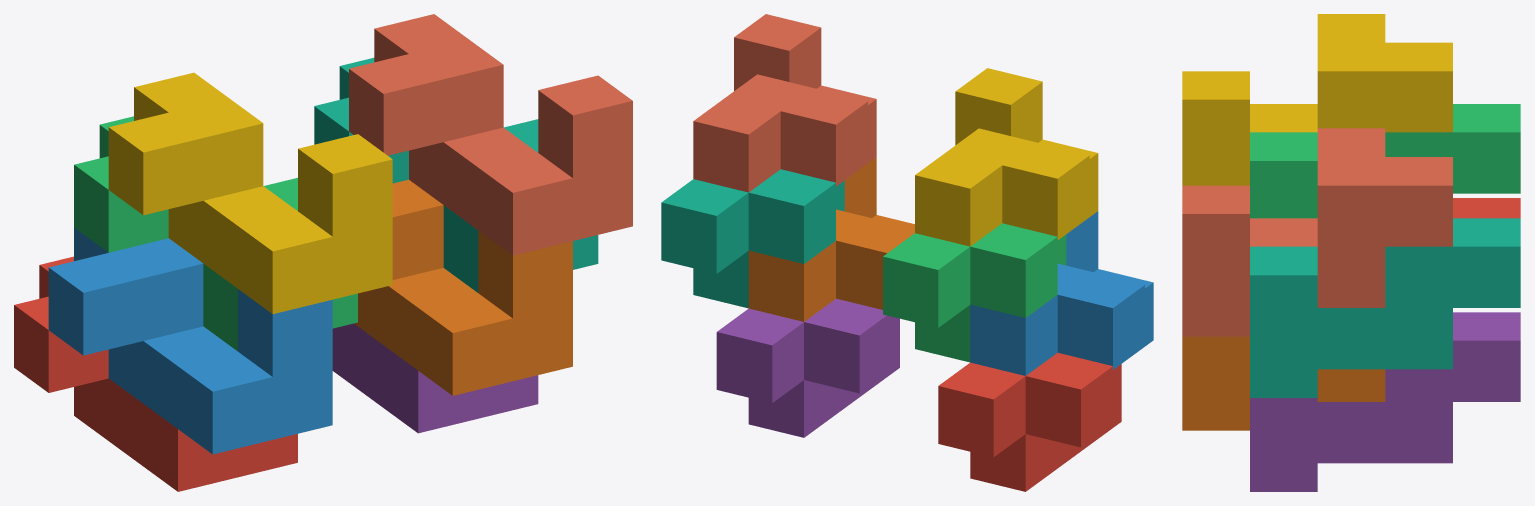
Rendered from tiling.obj.
3 renders of one model, left to right at view 1: azimuth 30°, elevation 25°; view 2: azimuth 150°, elevation 25°; view 3: azimuth 270°, elevation 25°, orthographic. The views are drawn at different scales.
Parts seen in each view (by area): view 1: copy_1_domain_4, copy_1_domain_8, copy_1_domain_2, copy_1_domain_6, copy_1_domain_1, copy_1_domain_5, copy_1_domain_3, copy_1_domain_7; view 2: copy_1_domain_4, copy_1_domain_8, copy_1_domain_1, copy_1_domain_5, copy_1_domain_3, copy_1_domain_7, copy_1_domain_2, copy_1_domain_6; view 3: copy_1_domain_8, copy_1_domain_7, copy_1_domain_4, copy_1_domain_5, copy_1_domain_3, copy_1_domain_6, copy_1_domain_1.
Boxes of the visible parts, box(x1,y1,x2,y2) form: copy_1_domain_4: box(108, 72, 392, 313); copy_1_domain_8: box(349, 14, 632, 255); copy_1_domain_2: box(48, 227, 332, 454); copy_1_domain_6: box(354, 179, 572, 395); copy_1_domain_1: box(14, 256, 297, 491); copy_1_domain_5: box(332, 323, 538, 433); copy_1_domain_3: box(74, 116, 357, 351); copy_1_domain_7: box(314, 57, 598, 292); copy_1_domain_4: box(915, 68, 1098, 246); copy_1_domain_8: box(693, 14, 876, 192); copy_1_domain_1: box(938, 352, 1121, 491); copy_1_domain_5: box(716, 298, 899, 437); copy_1_domain_3: box(883, 223, 1066, 362); copy_1_domain_7: box(661, 169, 844, 308); copy_1_domain_2: box(970, 211, 1153, 375); copy_1_domain_6: box(748, 157, 914, 321); copy_1_domain_8: box(1182, 128, 1452, 336); copy_1_domain_7: box(1250, 218, 1520, 397); copy_1_domain_4: box(1182, 14, 1452, 185); copy_1_domain_5: box(1250, 312, 1520, 491); copy_1_domain_3: box(1250, 104, 1520, 218); copy_1_domain_6: box(1182, 336, 1385, 430); copy_1_domain_1: box(1453, 198, 1520, 218).
Bounding box in the file's own units: 8 × 5 × 5.
